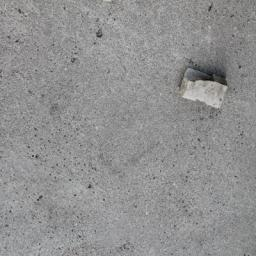FOD: (178, 63, 231, 113)
